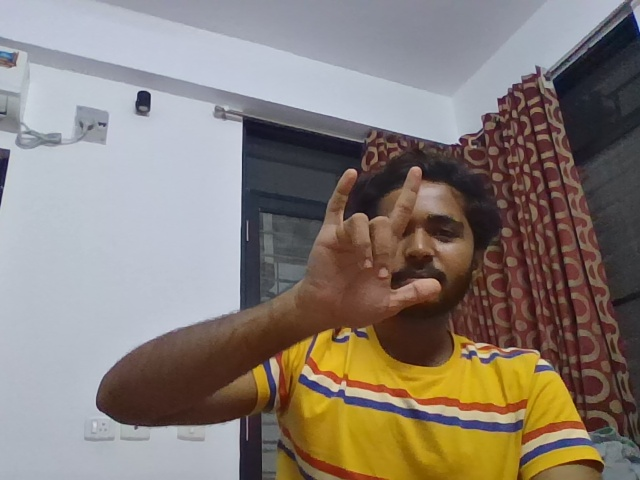I Love You: (289, 158, 450, 342)
